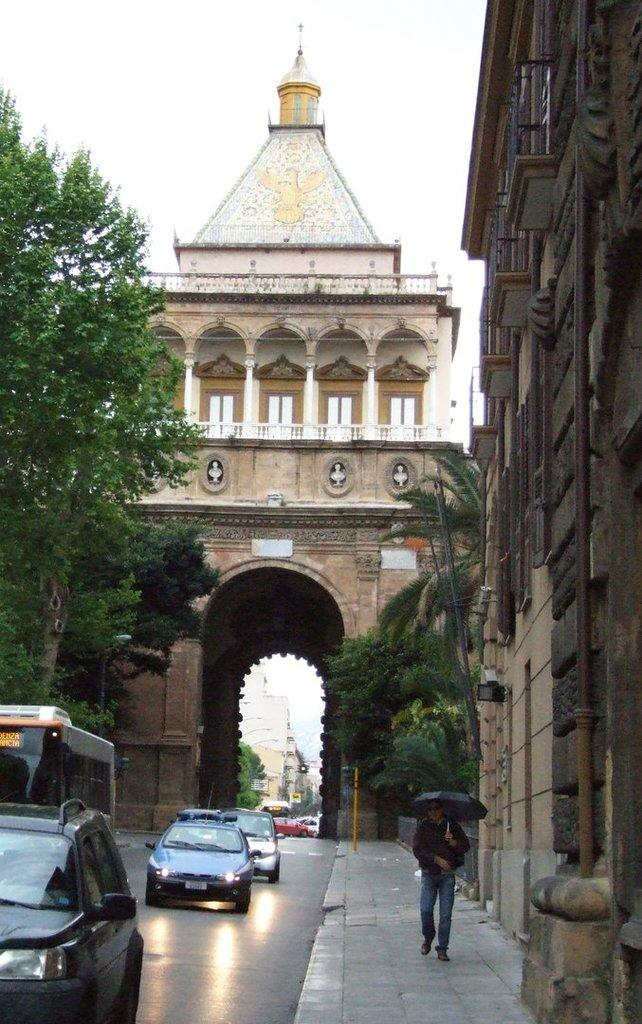umbrella: (410, 790, 492, 844)
